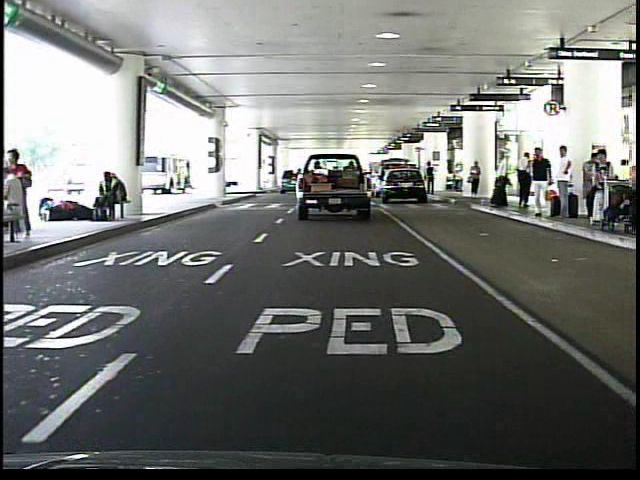person: (553, 142, 579, 228), (529, 145, 555, 223), (489, 150, 514, 214), (466, 160, 483, 202), (425, 159, 437, 197)
